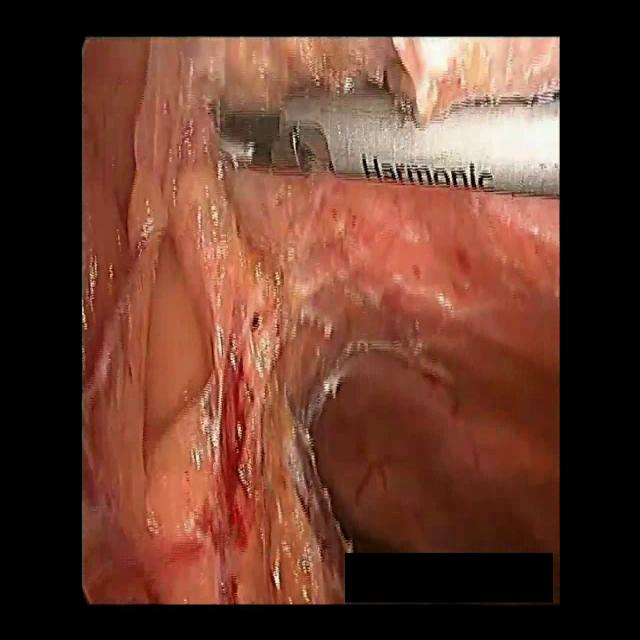surgical-area: (80, 38, 561, 603)
surgical-tool: (211, 78, 560, 203)
